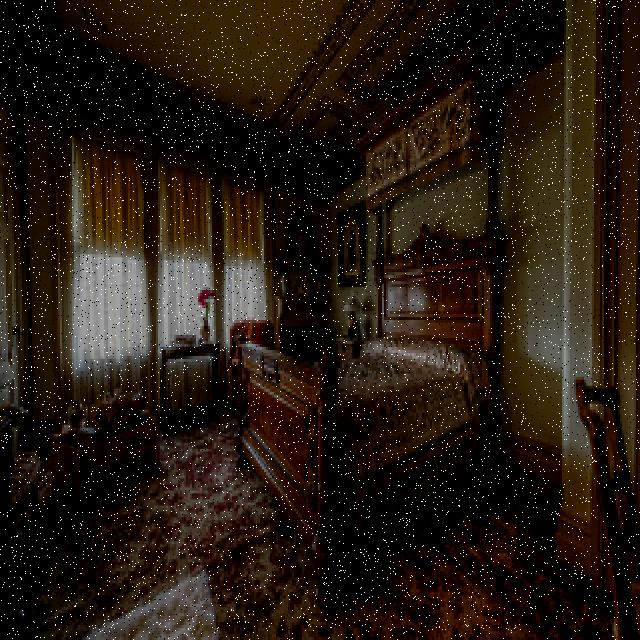bed: (246, 286, 494, 542)
